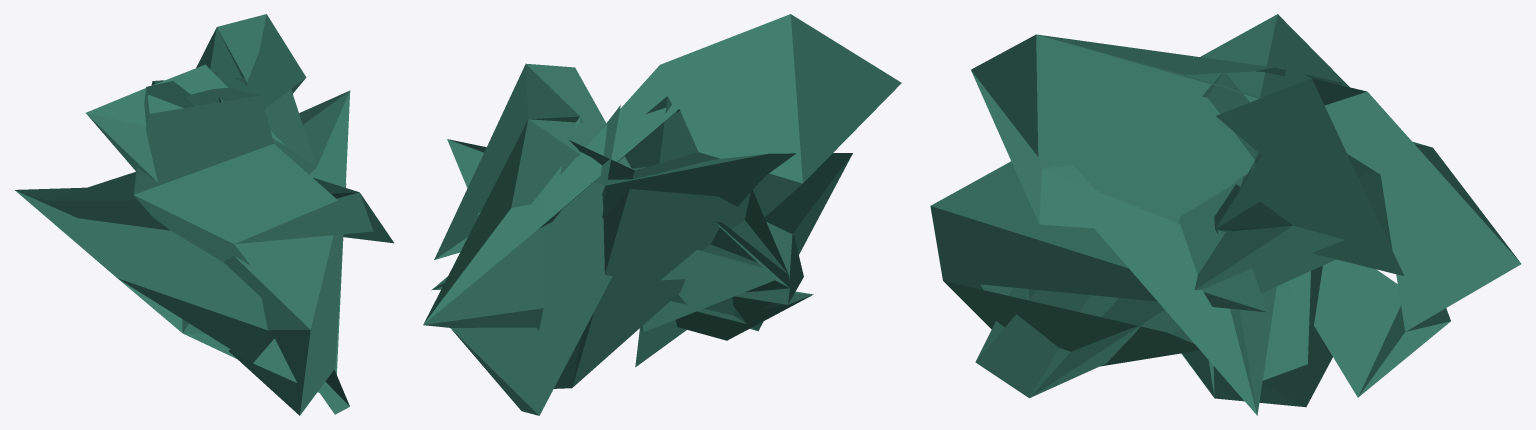
File: bush.fbx
3 renders of one model, left to right at view 1: azimuth 30°, elevation 25°; view 2: azimuth 150°, elevation 25°; view 3: azimuth 270°, elevation 25°, orthographic. The views are drawn at different scales.
Parts seen in each view (by area): view 1: Plane; view 2: Plane; view 3: Plane.
Boxes of the visible parts, left/top/right/bottom form: Plane: left=15, top=14, right=393, bottom=415; Plane: left=423, top=14, right=901, bottom=415; Plane: left=930, top=14, right=1521, bottom=415.
Bounding box in the file's own units: 331 × 274 × 420.
